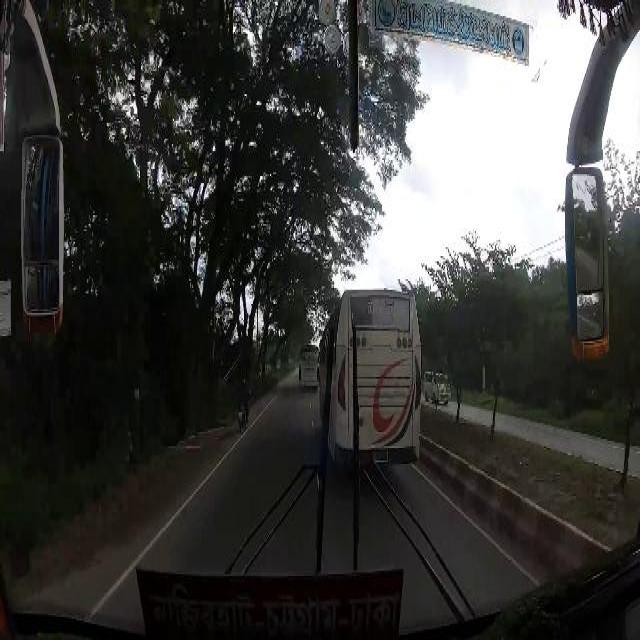bike: (238, 380, 251, 430)
vehicle: (318, 287, 421, 469), (424, 372, 450, 406)
